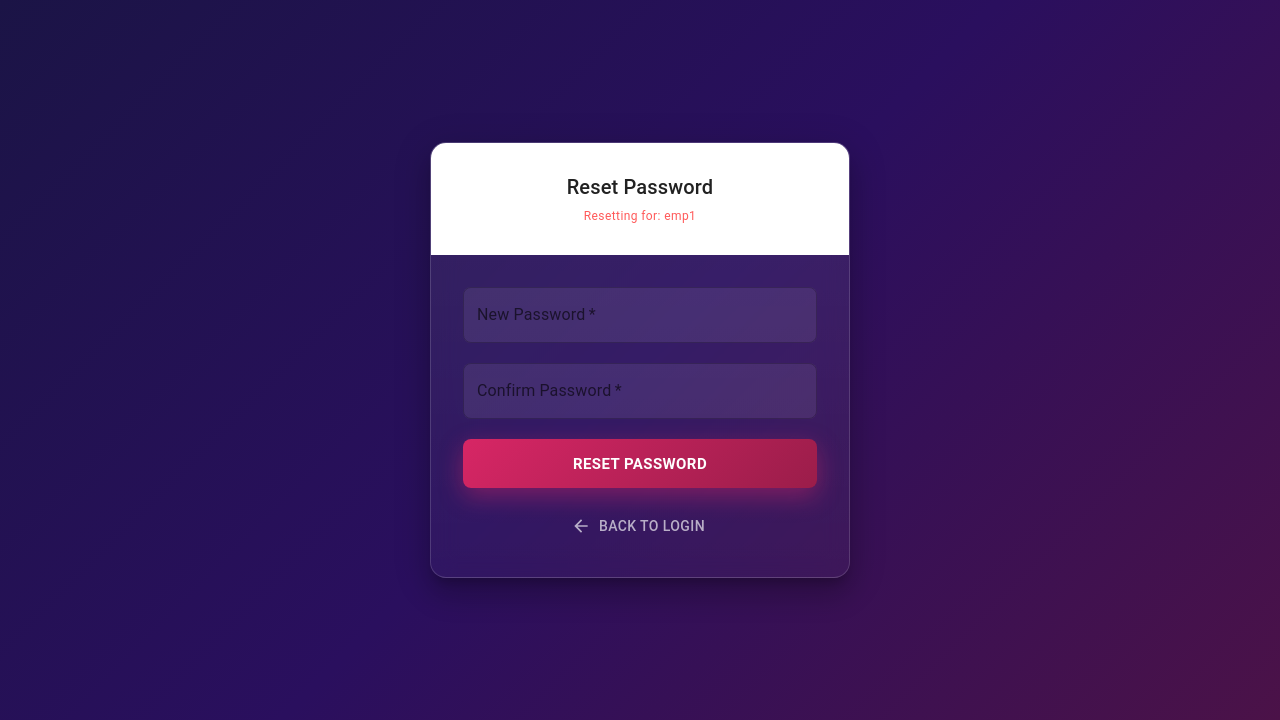
Test case: ResetPasswordPage › shows error when passwords do not match
Type "pass123" into the password field labelled "New Password *" at (640,315), box top-left (463, 287), bottom-right (817, 343)
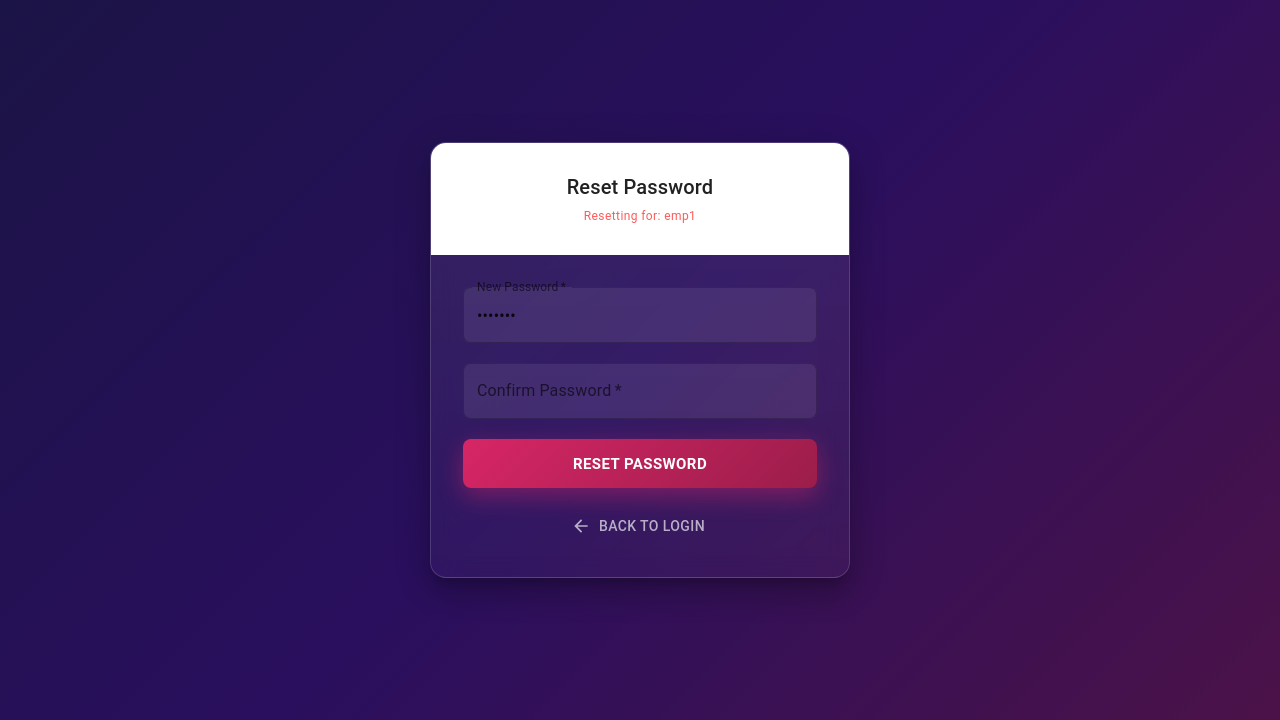
Type "pass999" into the password field labelled "Confirm Password *" at (640,391), box top-left (463, 363), bottom-right (817, 419)
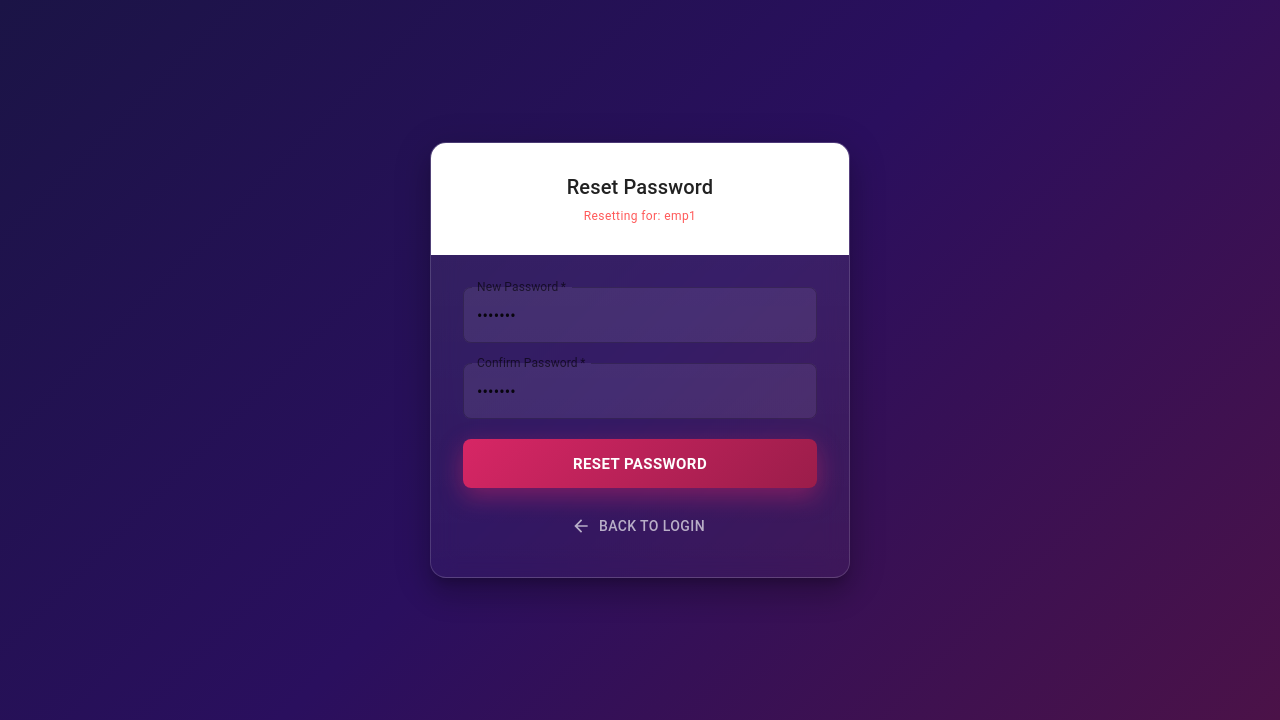
Click the button "Reset Password" at (640,464), box top-left (463, 439), bottom-right (817, 488)
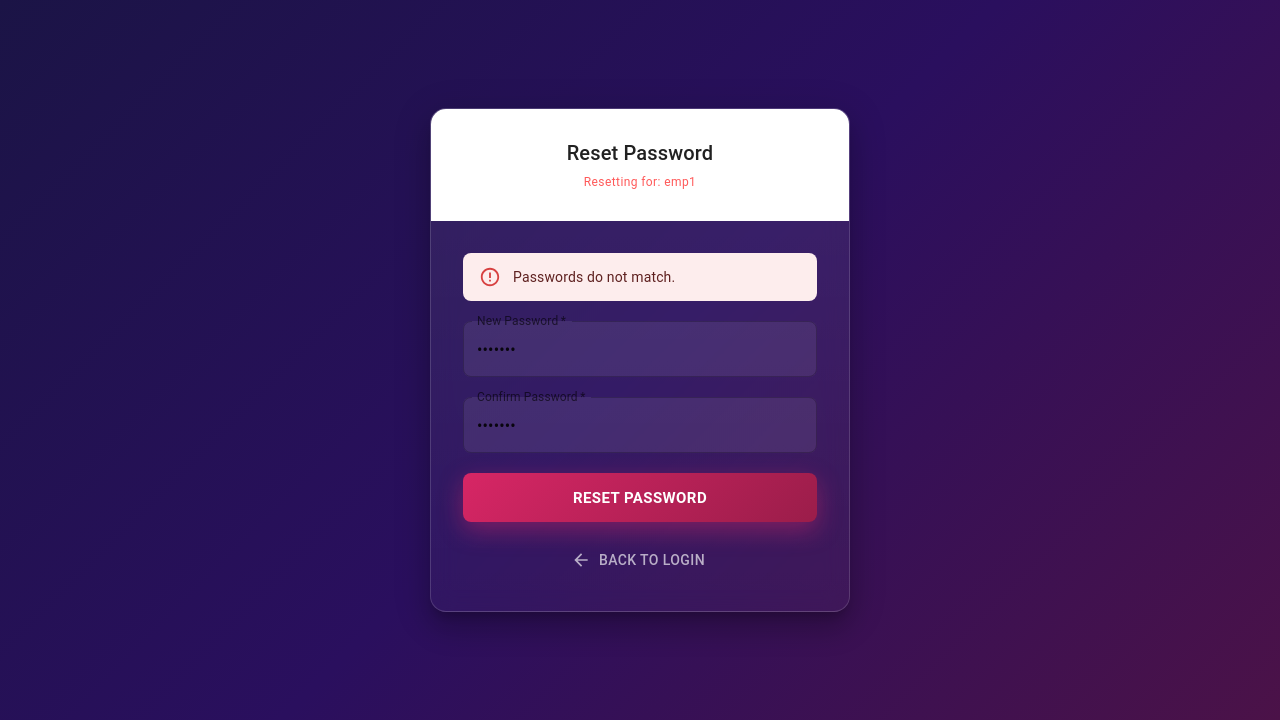
expect the text "Passwords do not match." is shown: met, box top-left (513, 269), bottom-right (675, 285)
